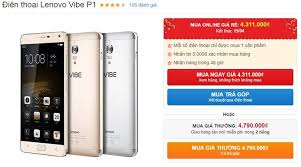lenovo: (15, 32, 75, 158)
